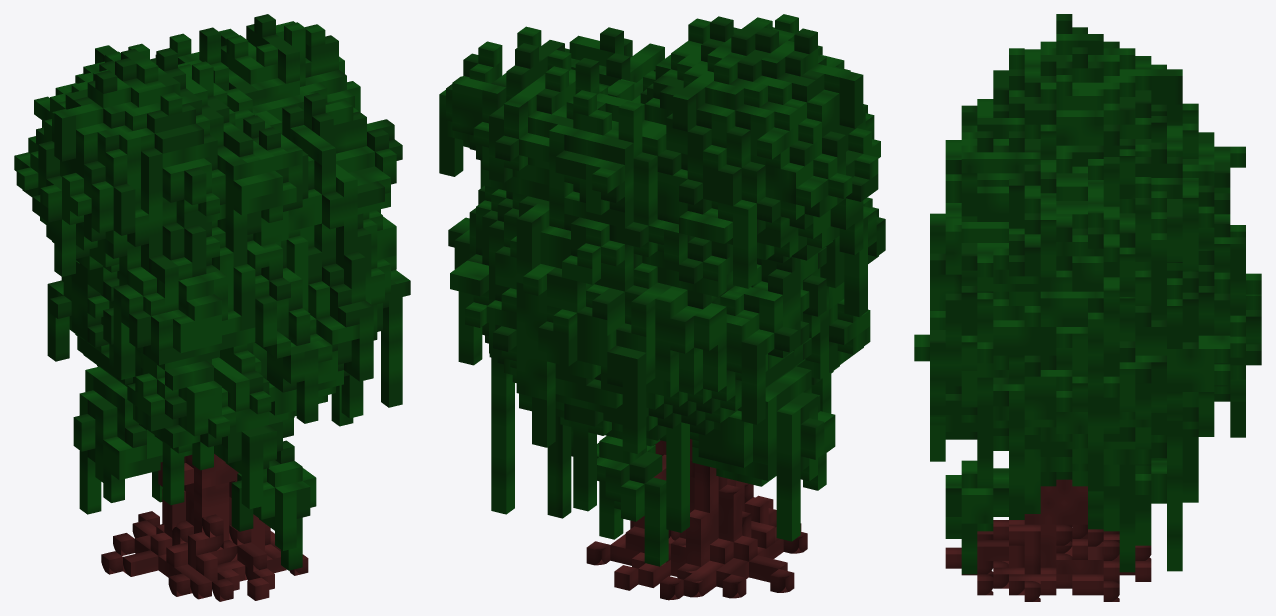
The model's file is drzewko_03.dae.
3 views of the same model, side by side, from view 1: azimuth 30°, elevation 25°; view 2: azimuth 150°, elevation 25°; view 3: azimuth 270°, elevation 25° (orthographic). The views are drawn at different scales.
Visible parts, largest first — view 1: Content; view 2: Content; view 3: Content.
Boxes of the visible parts, x1,y1,x2,y2 form: Content: (14, 14, 410, 601); Content: (439, 14, 885, 600); Content: (914, 14, 1261, 601).
Size of the model in its own units: 25 by 35 by 22.
Materials: 1 (1 with a texture image).
